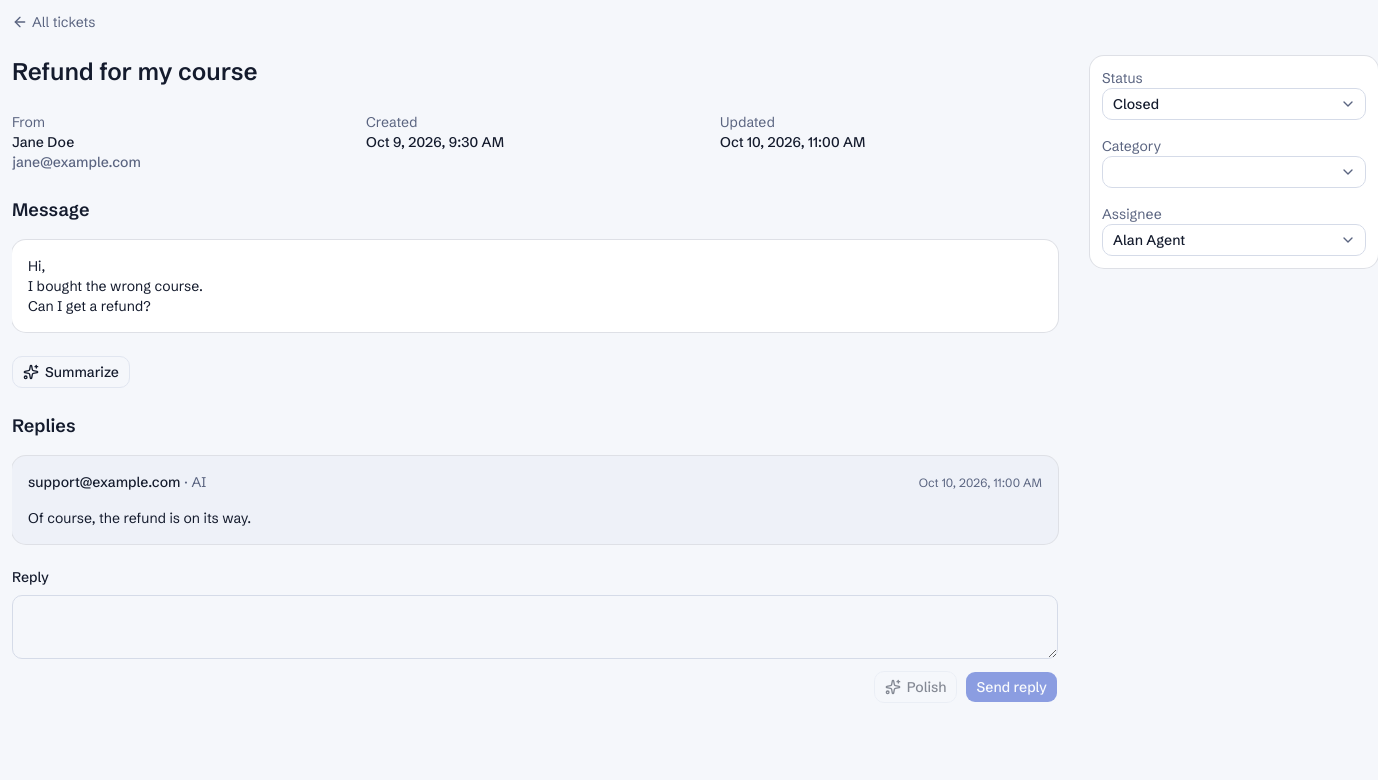
it: TicketDetailPage assignee › shows the chosen user and disables the select while saving
This screenshot has width=1378, height=780.
Select "Beth Admin" in the dropdown named "Assignee" at (1234, 240), box [1102,224,1366,256]
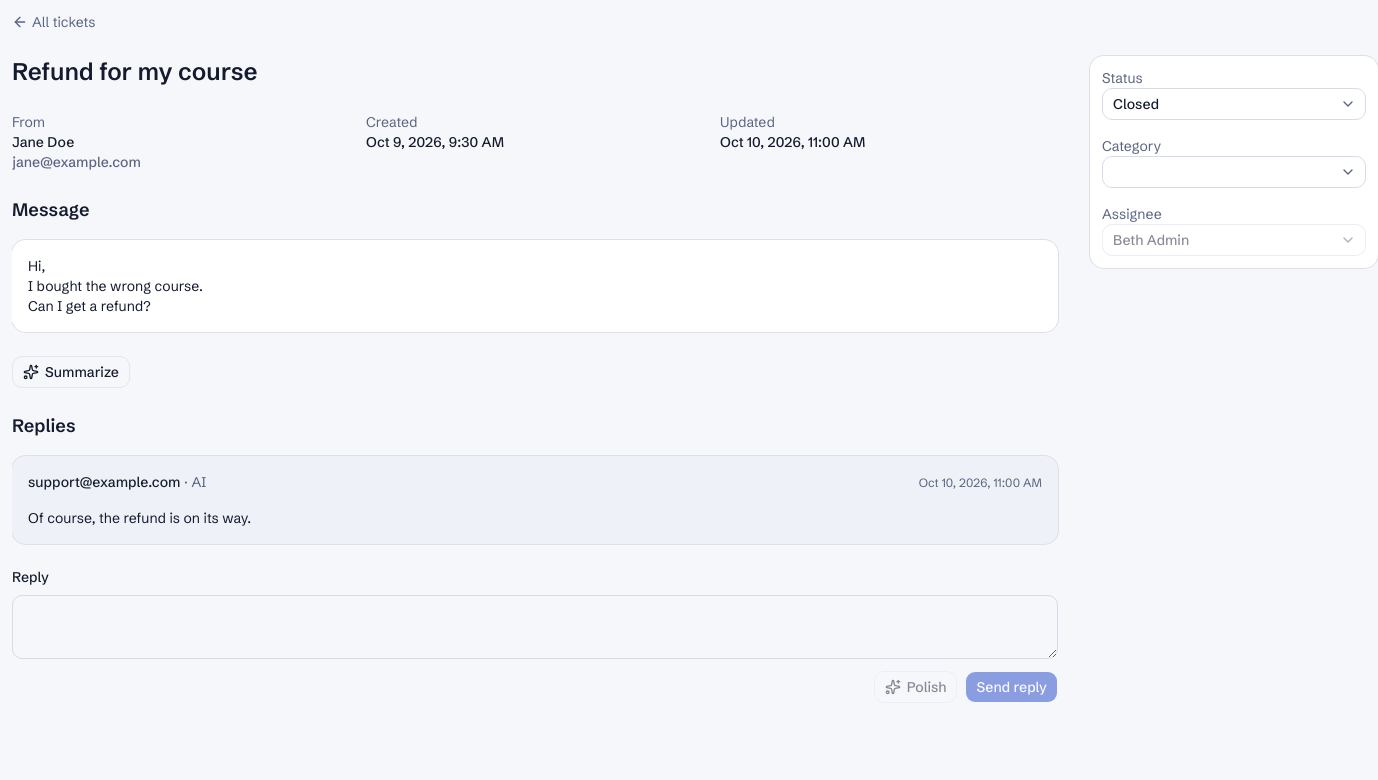
expect the dropdown named "Assignee" is disabled: met, box [1102,224,1366,256]
